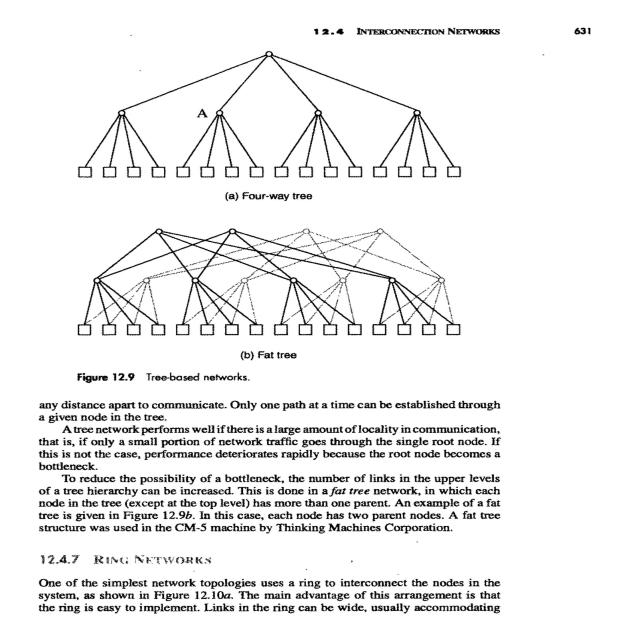diagram: (84, 35, 520, 392)
